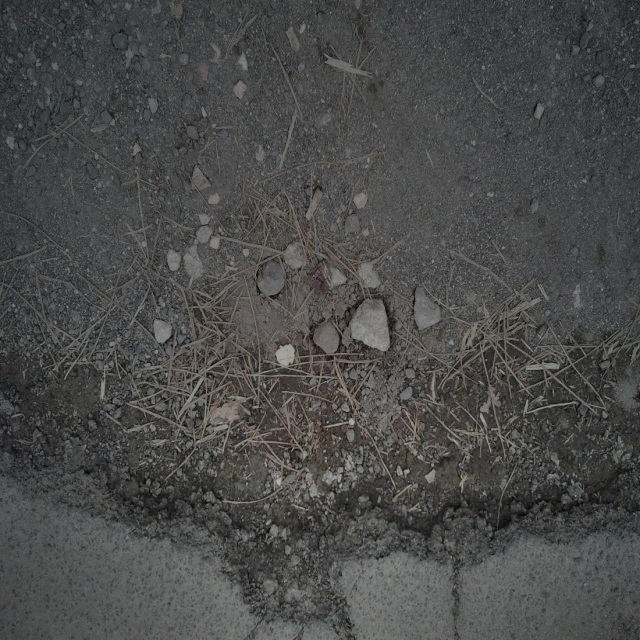pothole: (25, 297, 579, 586)
